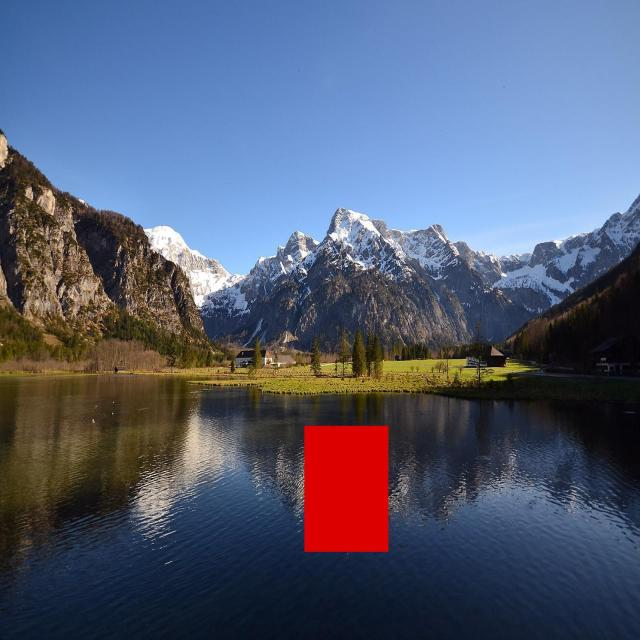RedSquare: (300, 415, 392, 561)
